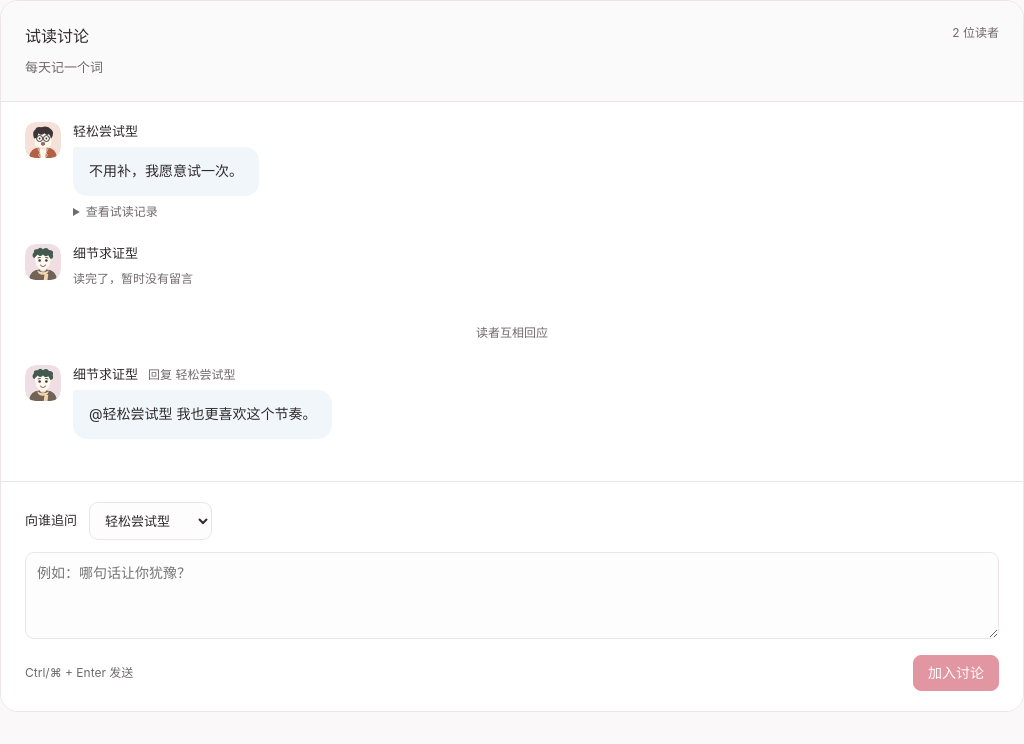
Test: lets the author address one reader in StrictMode and displays the saved answer
Type "哪一句让你更愿意试？" into the text box named "作者追问" at x=512, y=595, box [25,552,999,639]
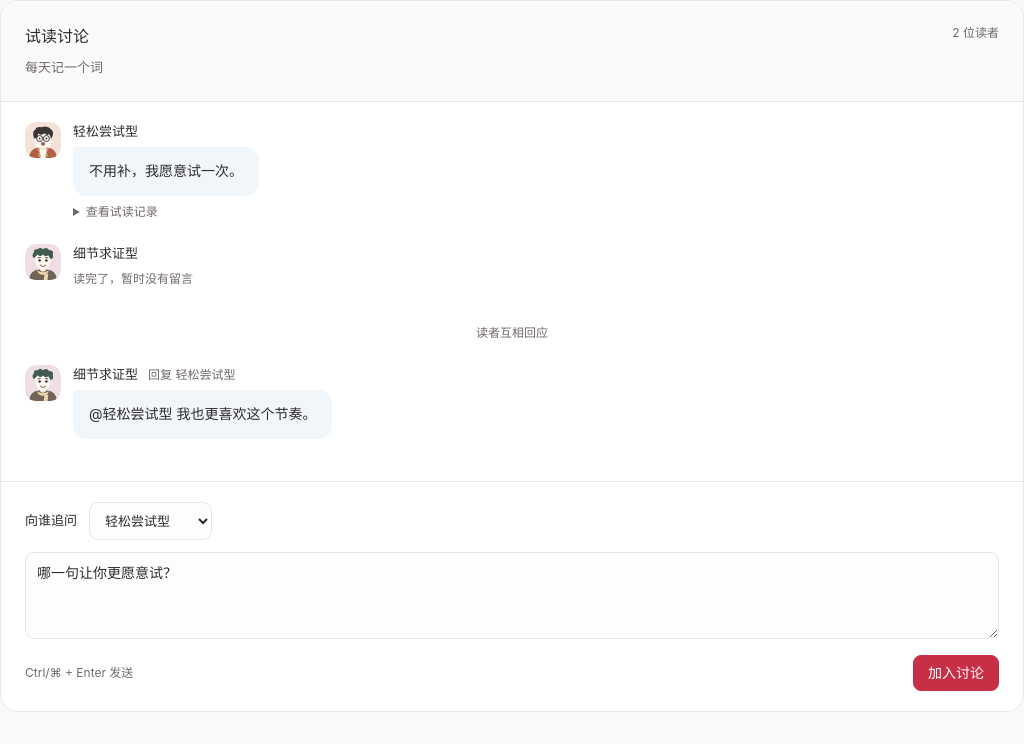
Click the button "加入讨论" at x=956, y=673, box [913,655,999,691]
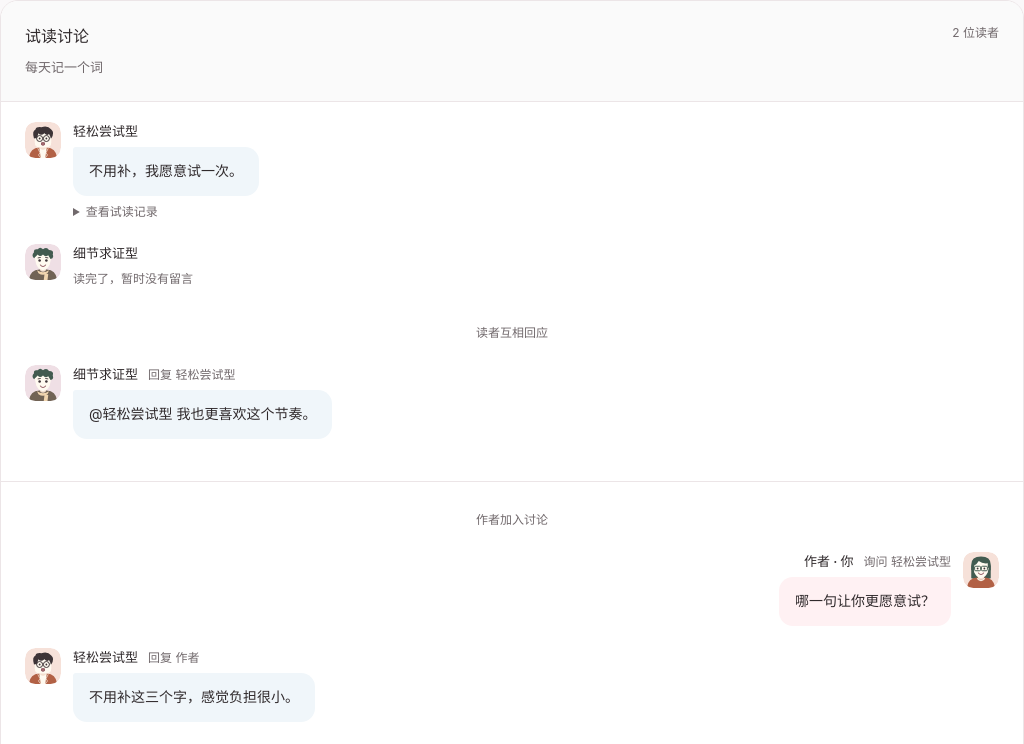
Now the text "不用补这三个字，感觉负担很小。" is shown, box [73,673,315,722]
Now the text "作者 · 你" is shown, box [804,552,854,571]
